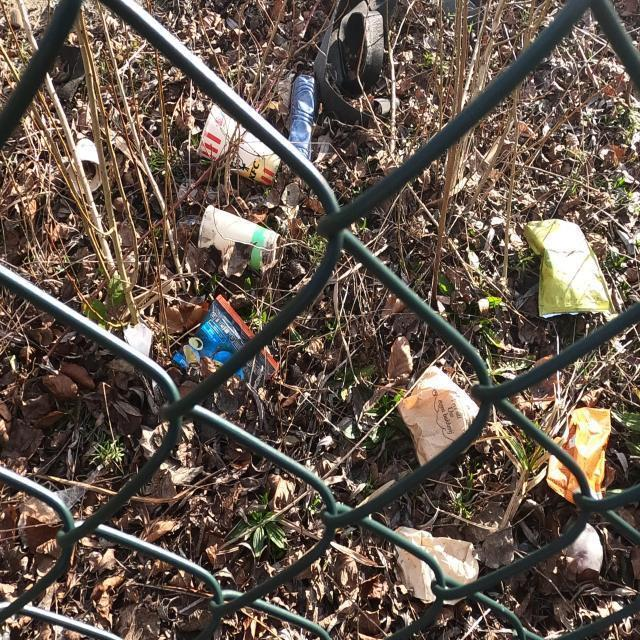Cup: (196, 102, 282, 188), (197, 204, 282, 278), (66, 137, 102, 194)
Paper: (396, 364, 480, 468), (392, 526, 480, 606)
Plastic: (172, 299, 283, 410), (522, 218, 616, 320), (546, 406, 612, 506)
